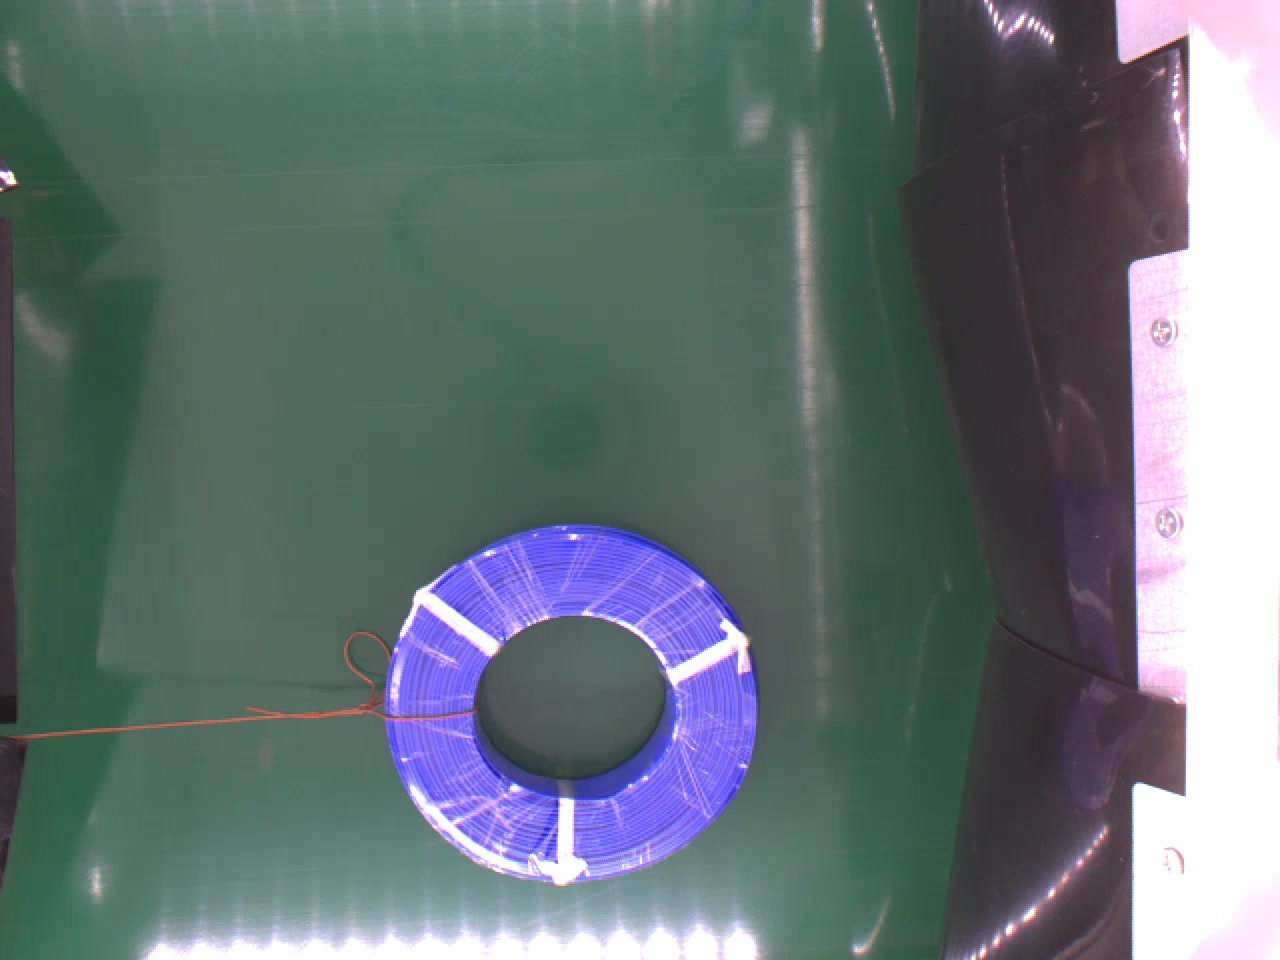blue: (381, 518, 762, 888)
